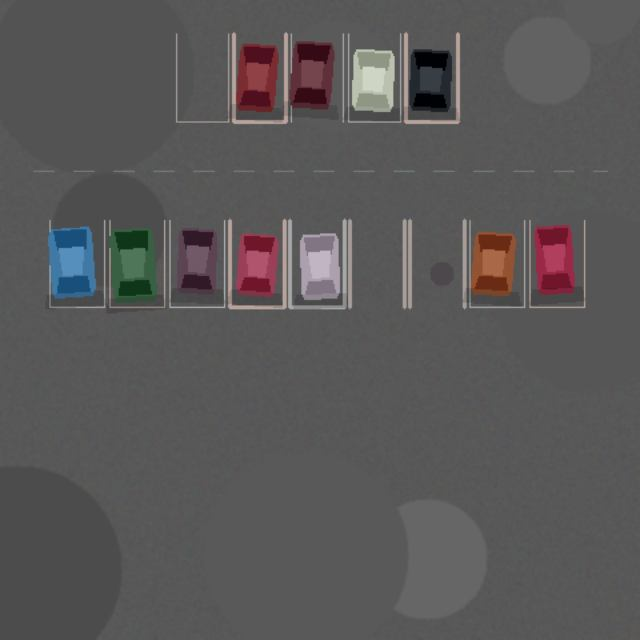space-empty: (349, 220, 404, 307), (409, 220, 464, 307), (176, 33, 228, 121)
space-occupied: (49, 220, 104, 307), (109, 220, 164, 307), (169, 220, 224, 307), (229, 220, 284, 307), (289, 220, 344, 307), (469, 220, 524, 307), (529, 220, 584, 307), (233, 33, 285, 121), (291, 33, 343, 121), (348, 33, 400, 121), (405, 33, 457, 121)
